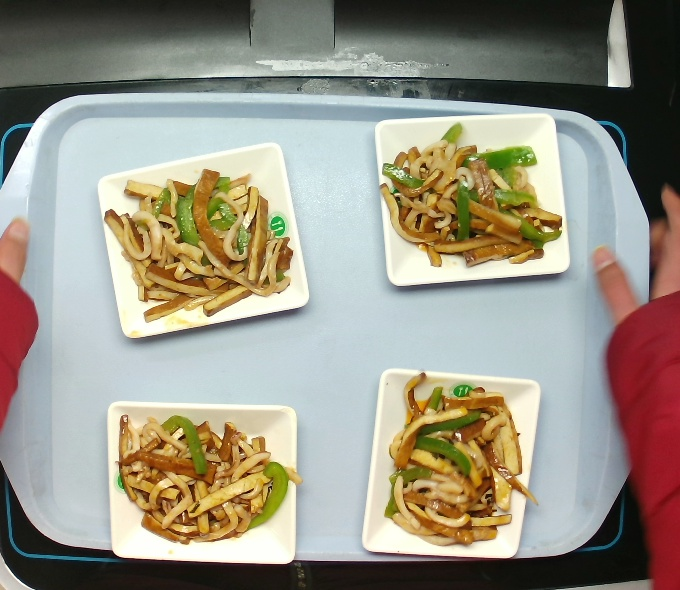wcq-XiangGanYouYu: (98, 153, 300, 341), (376, 119, 570, 280), (107, 405, 295, 548), (382, 381, 526, 543)
